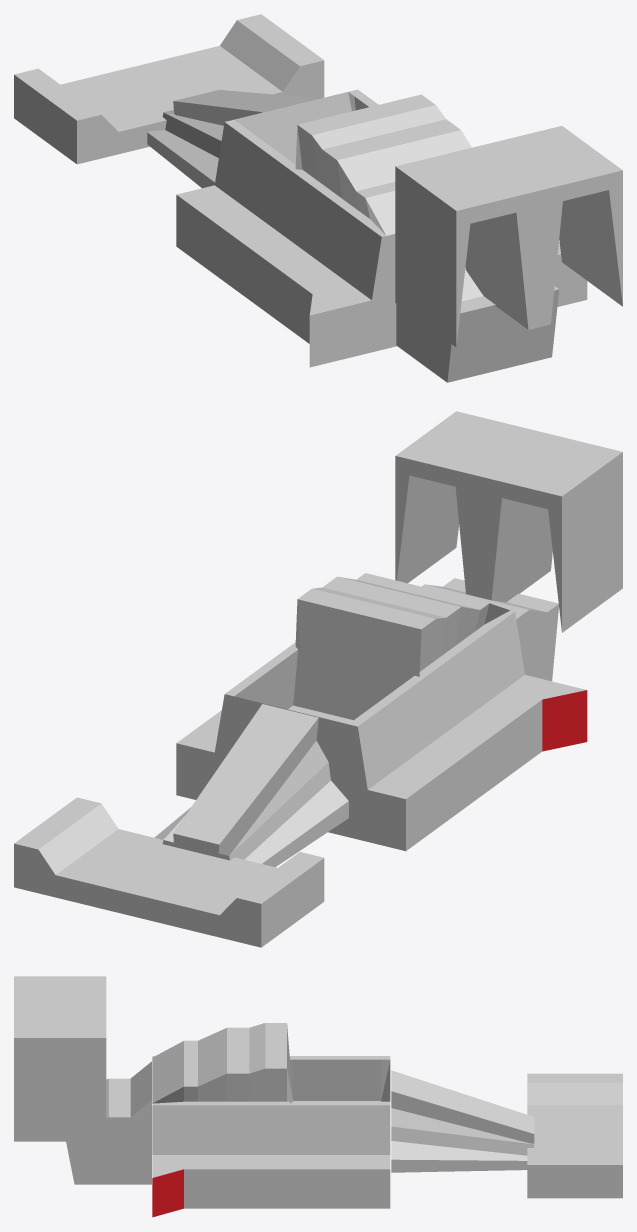
File: mclaren.fbx
3 views of the same model, one above another, from view 1: azimuth 30°, elevation 25°; view 2: azimuth 150°, elevation 25°; view 3: azimuth 270°, elevation 25° (orthographic). The views are drawn at different scales.
Visible parts, largest first — view 1: Cube.001; view 2: Cube.001; view 3: Cube.001.
Boxes of the visible parts, x1=… form: Cube.001: x1=14, y1=14, x2=622, y2=382; Cube.001: x1=14, y1=411, x2=622, y2=947; Cube.001: x1=14, y1=976, x2=622, y2=1217.
Size of the model in its own units: 340 by 245 by 852.
